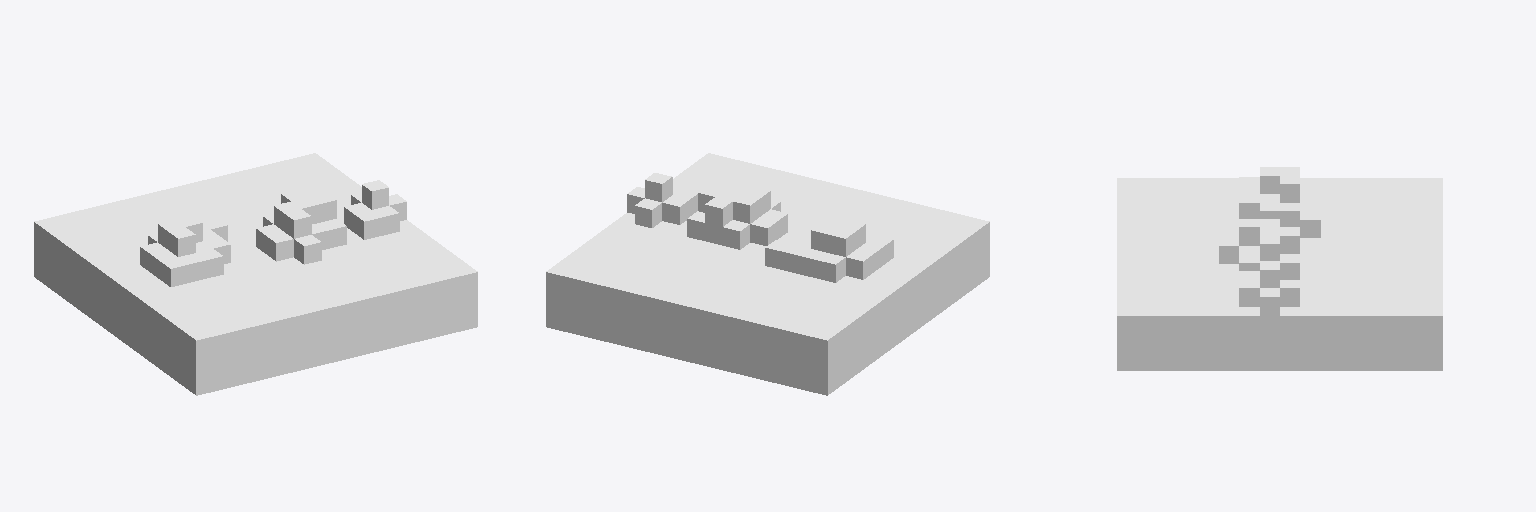
The model's file is stright2.obj.
3 renders of one model, left to right at view 1: azimuth 30°, elevation 25°; view 2: azimuth 150°, elevation 25°; view 3: azimuth 270°, elevation 25°, orthographic.
Visible parts, largest first — view 1: stright2; view 2: stright2; view 3: stright2.
Part boxes in pixels (left/top/right/bottom): stright2: left=34, top=153, right=477, bottom=395; stright2: left=546, top=153, right=989, bottom=395; stright2: left=1117, top=167, right=1442, bottom=370.
Bounding box in the file's own units: 16 × 5 × 16.